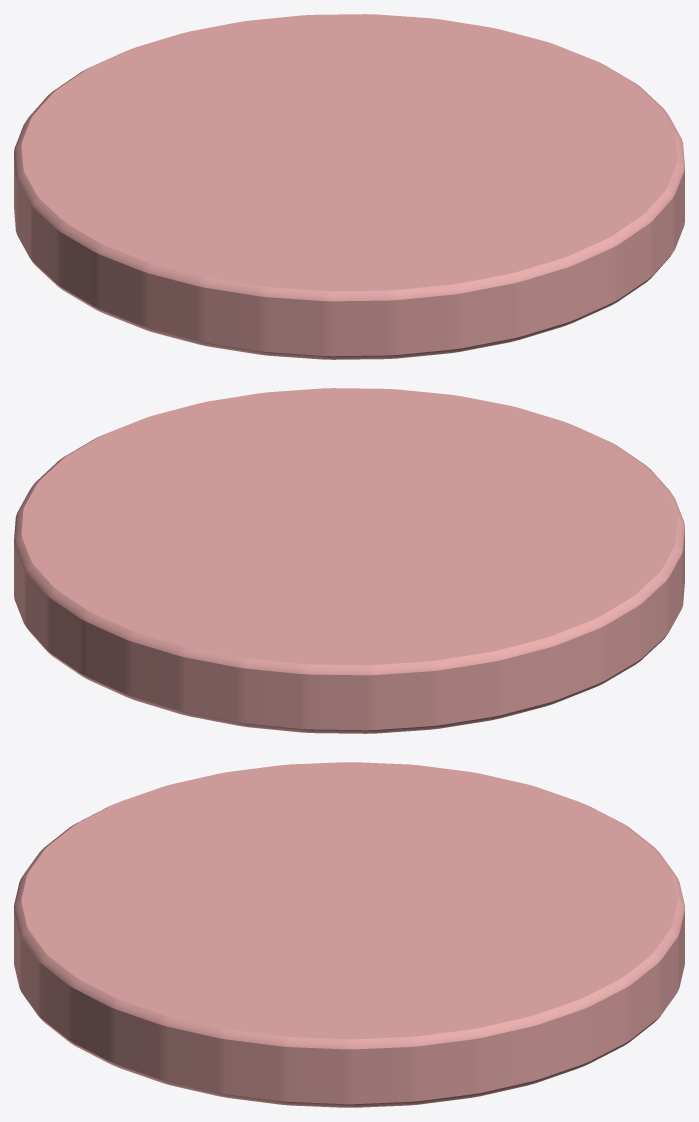
Rendered from rawPatty.fbx.
3 views of the same model, one above another, from view 1: azimuth 30°, elevation 25°; view 2: azimuth 150°, elevation 25°; view 3: azimuth 270°, elevation 25° (orthographic).
Visible parts, largest first — view 1: rawPatty; view 2: rawPatty; view 3: rawPatty.
Boxes of the visible parts, x1=… form: rawPatty: x1=14, y1=14, x2=684, y2=359; rawPatty: x1=14, y1=388, x2=684, y2=733; rawPatty: x1=14, y1=762, x2=684, y2=1107.
Bounding box in the file's own units: 8.88 × 1 × 8.88.
